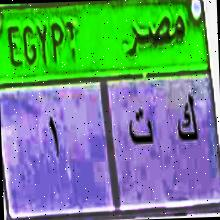1: (44, 109, 62, 170)
kaaf: (172, 91, 198, 154)
taa: (126, 106, 155, 156)
